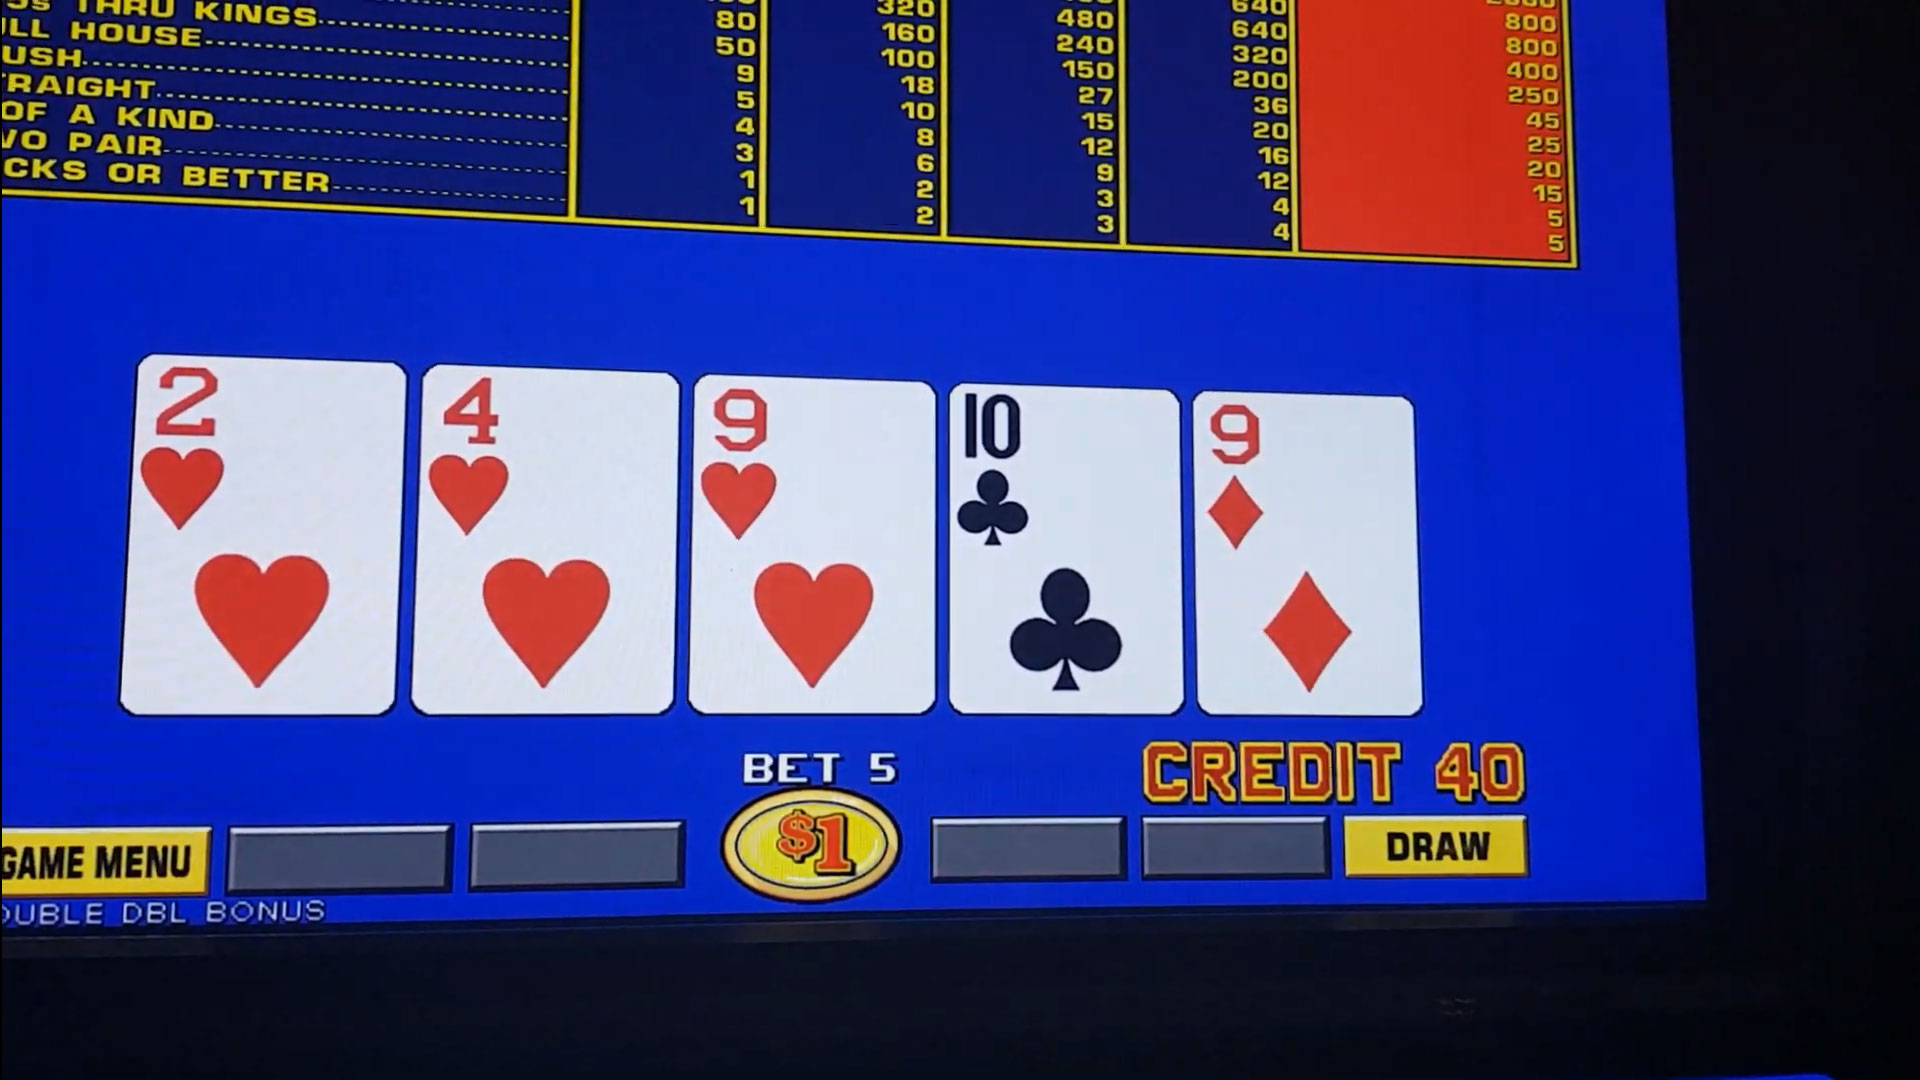CT: (957, 392, 1178, 568)
D9: (1197, 398, 1408, 568)
H2: (142, 371, 397, 541)
H4: (429, 378, 673, 545)
H9: (699, 384, 931, 554)
